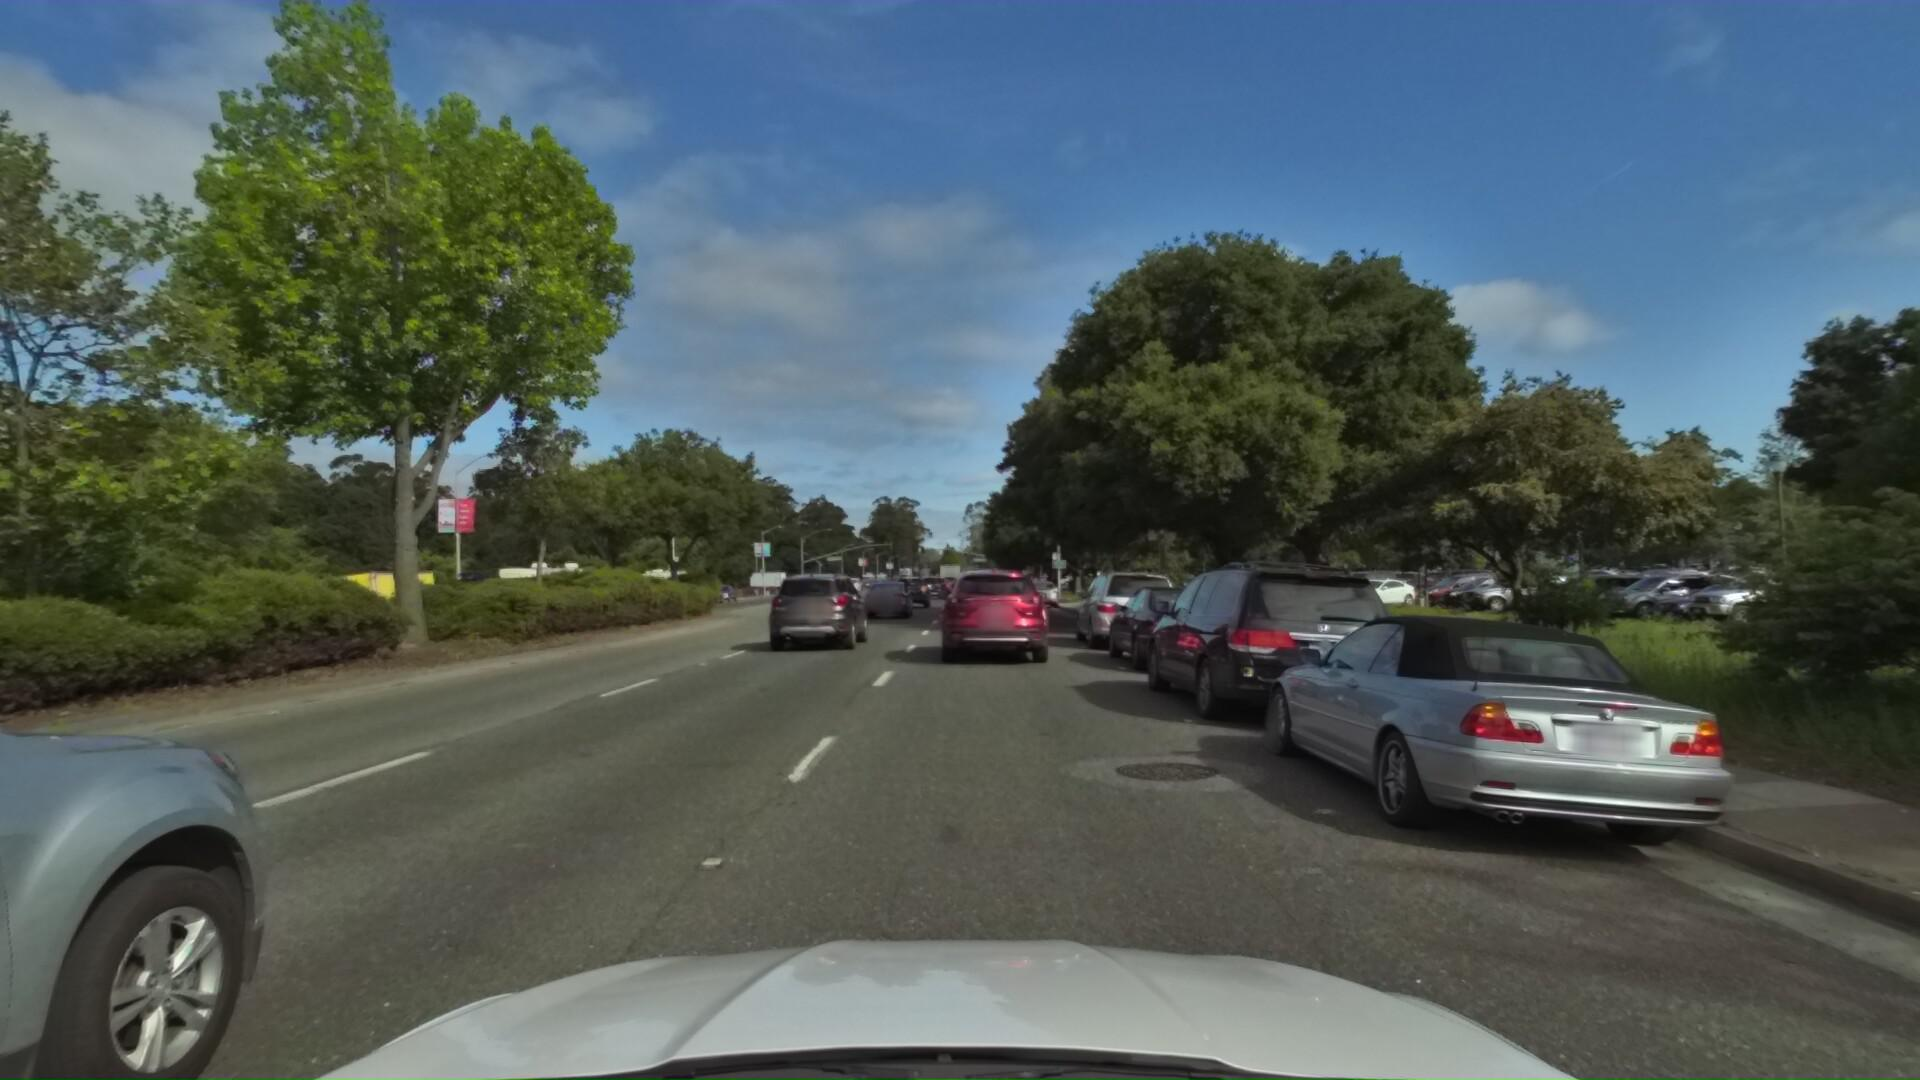car: (1247, 595, 1813, 920), (1135, 545, 1429, 752), (1097, 578, 1261, 684), (934, 564, 1063, 675), (1068, 563, 1192, 657), (762, 571, 876, 659), (862, 580, 920, 625), (886, 575, 932, 612), (952, 578, 996, 609), (1019, 574, 1059, 605), (915, 575, 947, 601)
other_vehicle: (487, 555, 600, 620), (620, 563, 694, 609)
truck: (273, 563, 440, 640), (406, 560, 520, 629)
